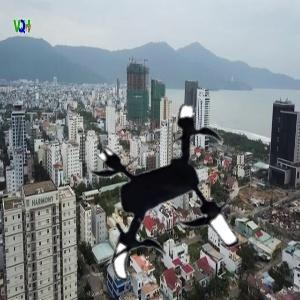drone: (75, 107, 267, 299)
